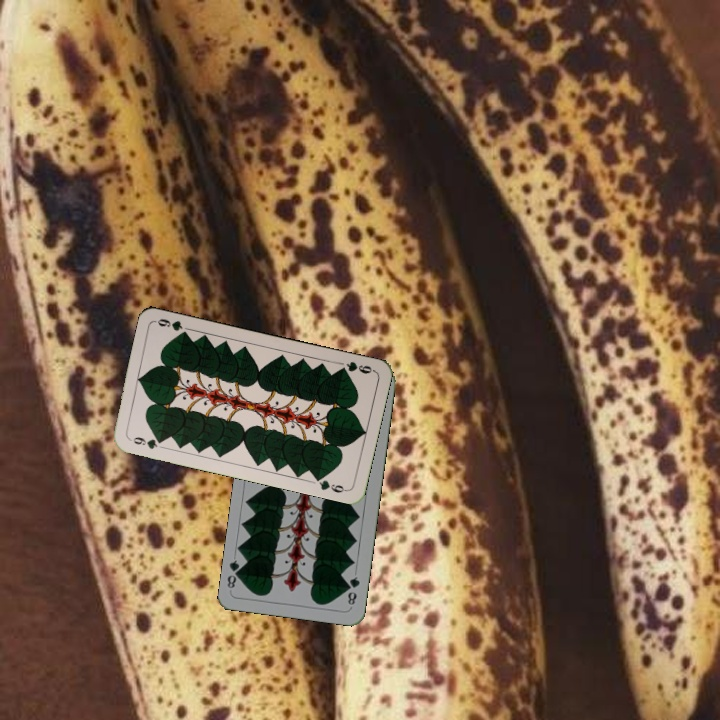G8: (343, 572, 362, 608)
G9: (335, 357, 377, 376), (126, 433, 166, 451)
